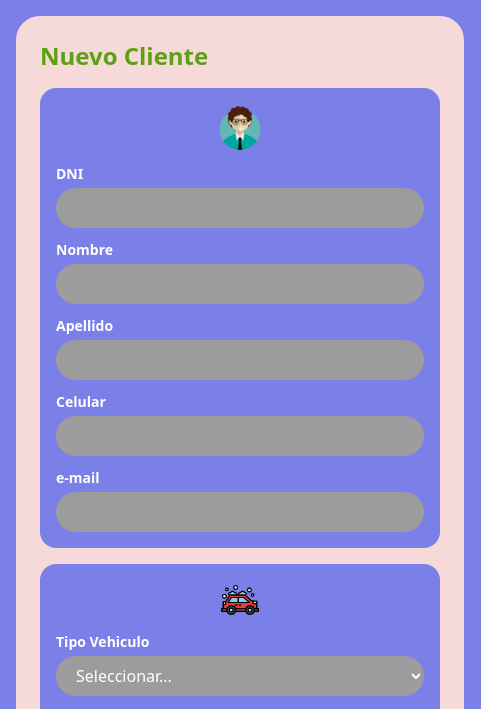
Test: NuevoClientePage › DNI y Celular aceptan solo números
expect the heading "Nuevo Cliente" is shown: met, box [40,39,208,72]
Type "12a3" into the field labelled "DNI" at (240, 208), box [56,188,424,228]
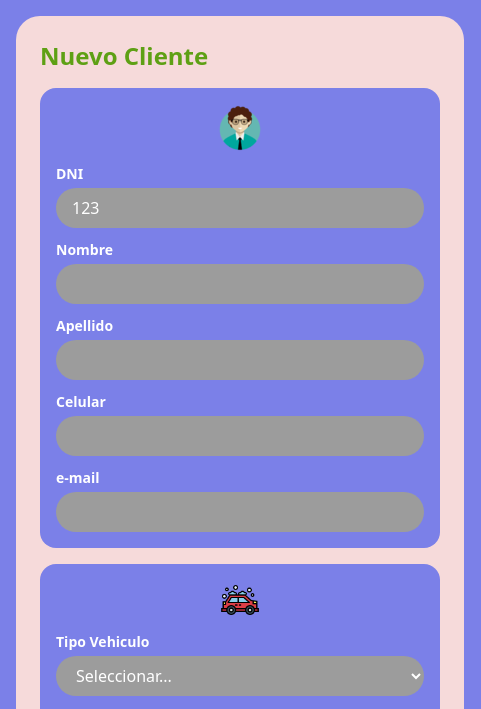
Type "55b5" into the field labelled "Celular" at (240, 436), box [56,416,424,456]
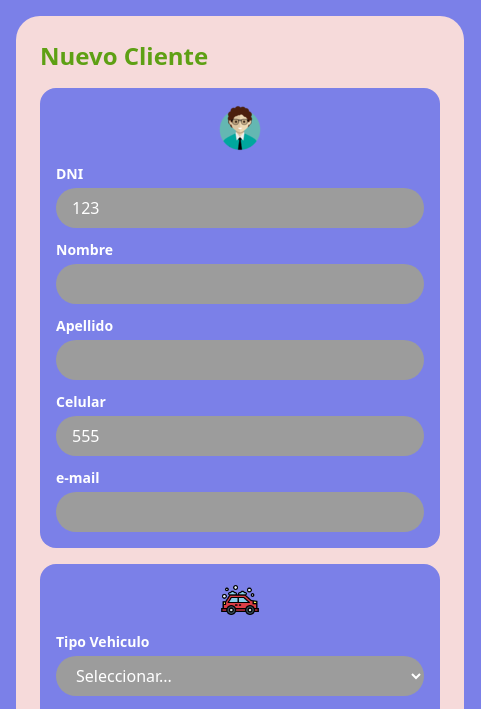
expect the field labelled "DNI" holds "123": met, box [56,188,424,228]
expect the field labelled "Celular" holds "555": met, box [56,416,424,456]
